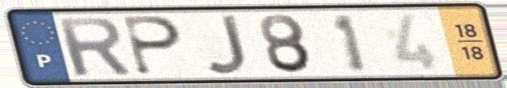1: (330, 11, 368, 75)
4: (390, 11, 443, 74)
8: (257, 12, 314, 76)
J: (202, 12, 251, 77)
P: (120, 14, 185, 78)
R: (52, 15, 135, 78)
